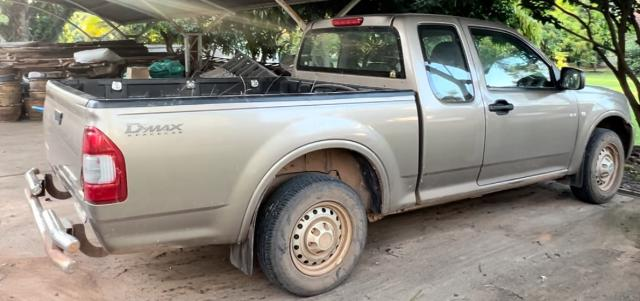pickup-truck: (23, 12, 636, 298)
